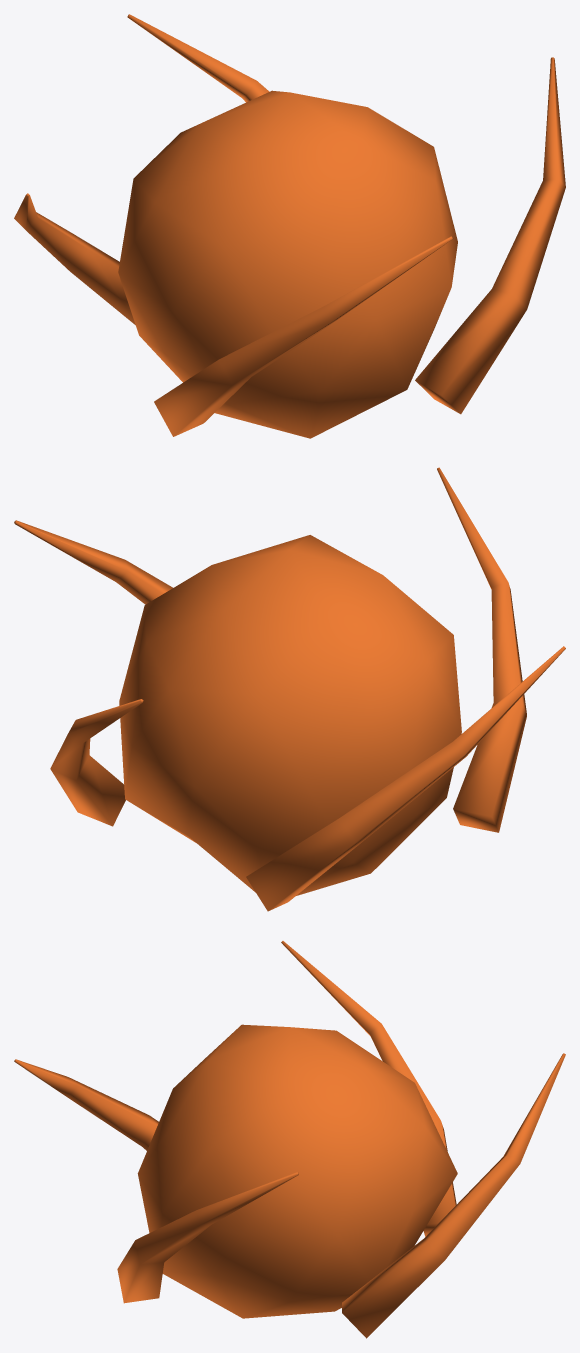
File: essence_of_fright.glb
The picture shows the model from 3 angles, top to bottom: view 1: azimuth 30°, elevation 25°; view 2: azimuth 150°, elevation 25°; view 3: azimuth 270°, elevation 25°; orthographic projection. The views are drawn at different scales.
Parts seen in each view (by area): view 1: essence_of_fright_v0; view 2: essence_of_fright_v0; view 3: essence_of_fright_v0.
Part boxes in pixels (box(x1,y1,x2,y2)): essence_of_fright_v0: box(14, 14, 565, 438); essence_of_fright_v0: box(14, 467, 565, 911); essence_of_fright_v0: box(14, 941, 565, 1338).
Size of the model in its own units: 0.3016 by 0.1693 by 0.3016.
